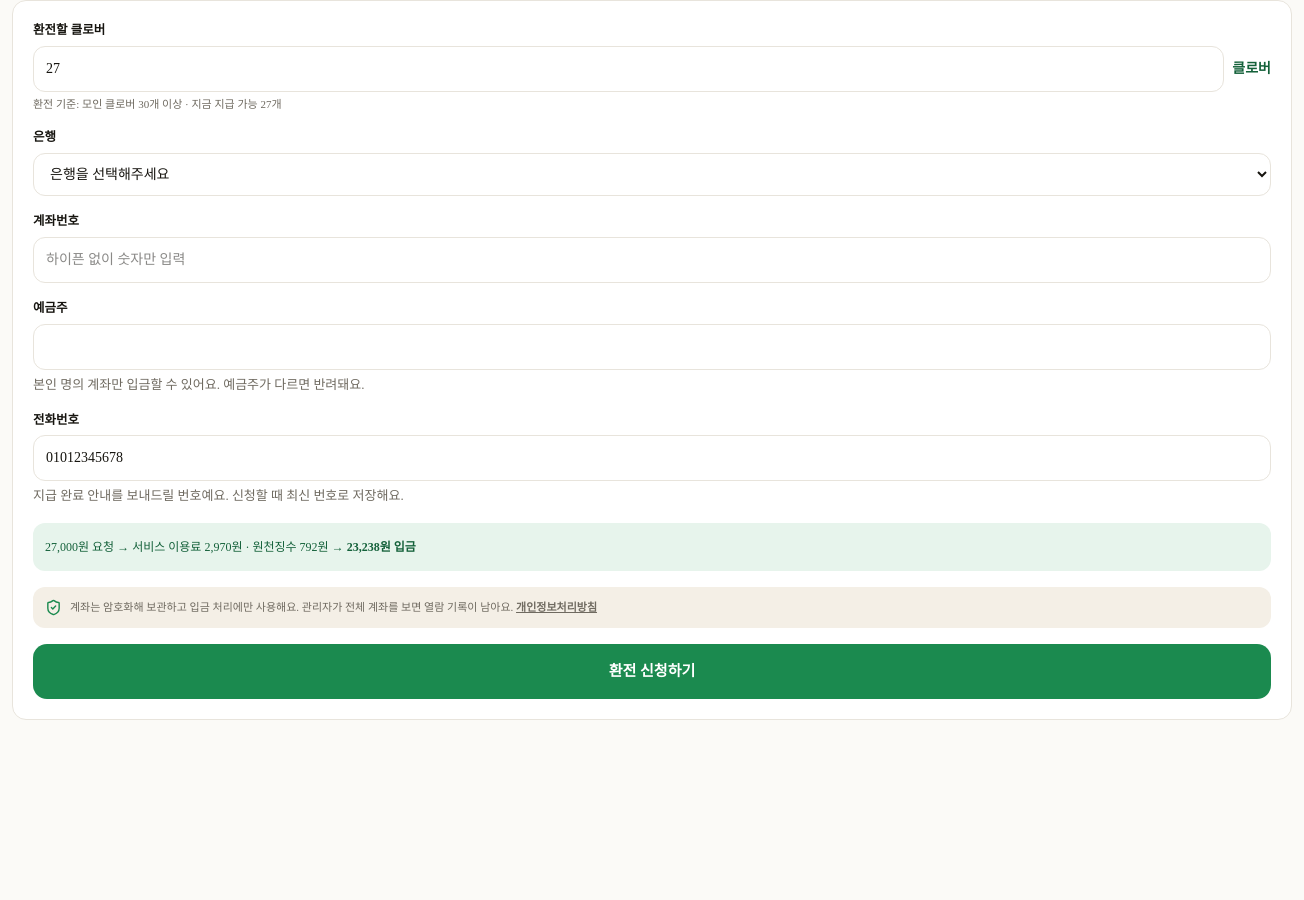
CashoutRequestForm › QA-LOCAL-03 총 30개(웰컴 3 포함)면 환전 가능액 27개로 신청할 수 있다
Check: the number field labelled "환전할 클로버" holds "27", box [33,46,1224,92]
Check: the form with test id "cashout-request-form" shows "환전 기준: 모인 클로버 30개 이상 · 지금 지급 가능 27개", box [33,98,282,110]
Select "KB국민은행" in the dropdown labelled "은행" at coordinates (652, 174), box [33,153,1271,196]
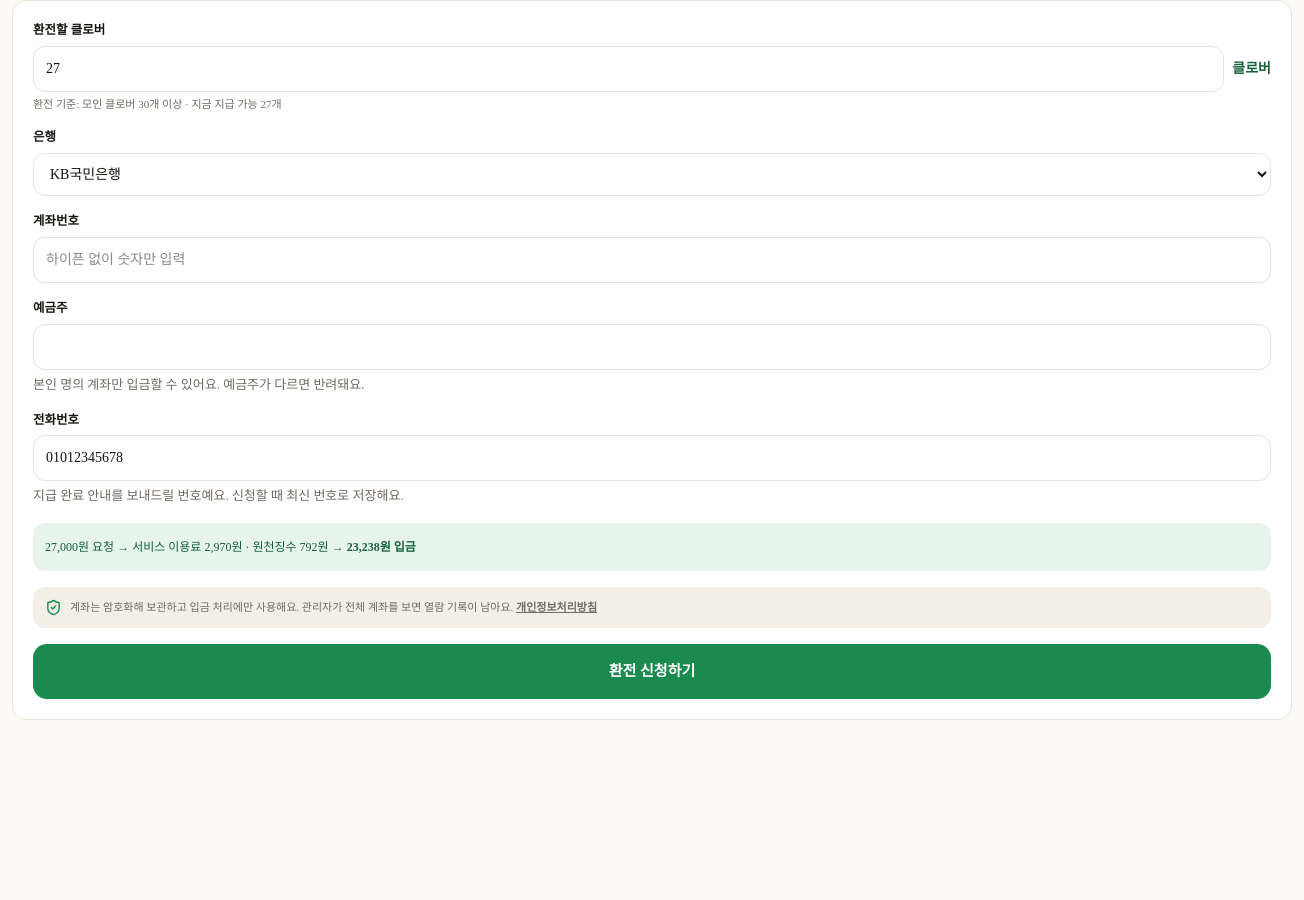
Type "123-456-789012" into the field labelled "계좌번호" at coordinates (652, 260), box [33,237,1271,283]
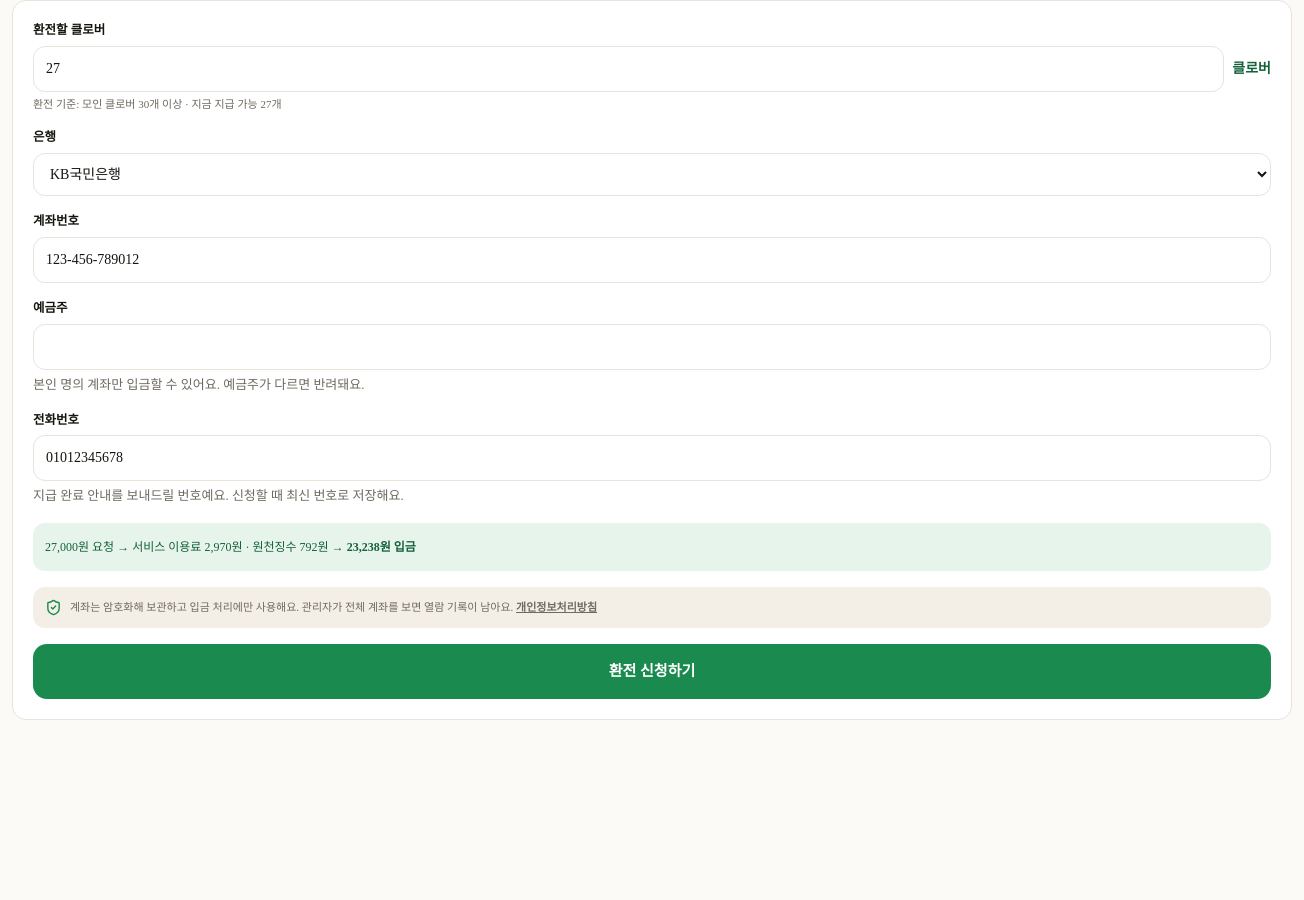
Type "홍길동" into the field labelled "예금주" at coordinates (652, 346), box [33,324,1271,370]
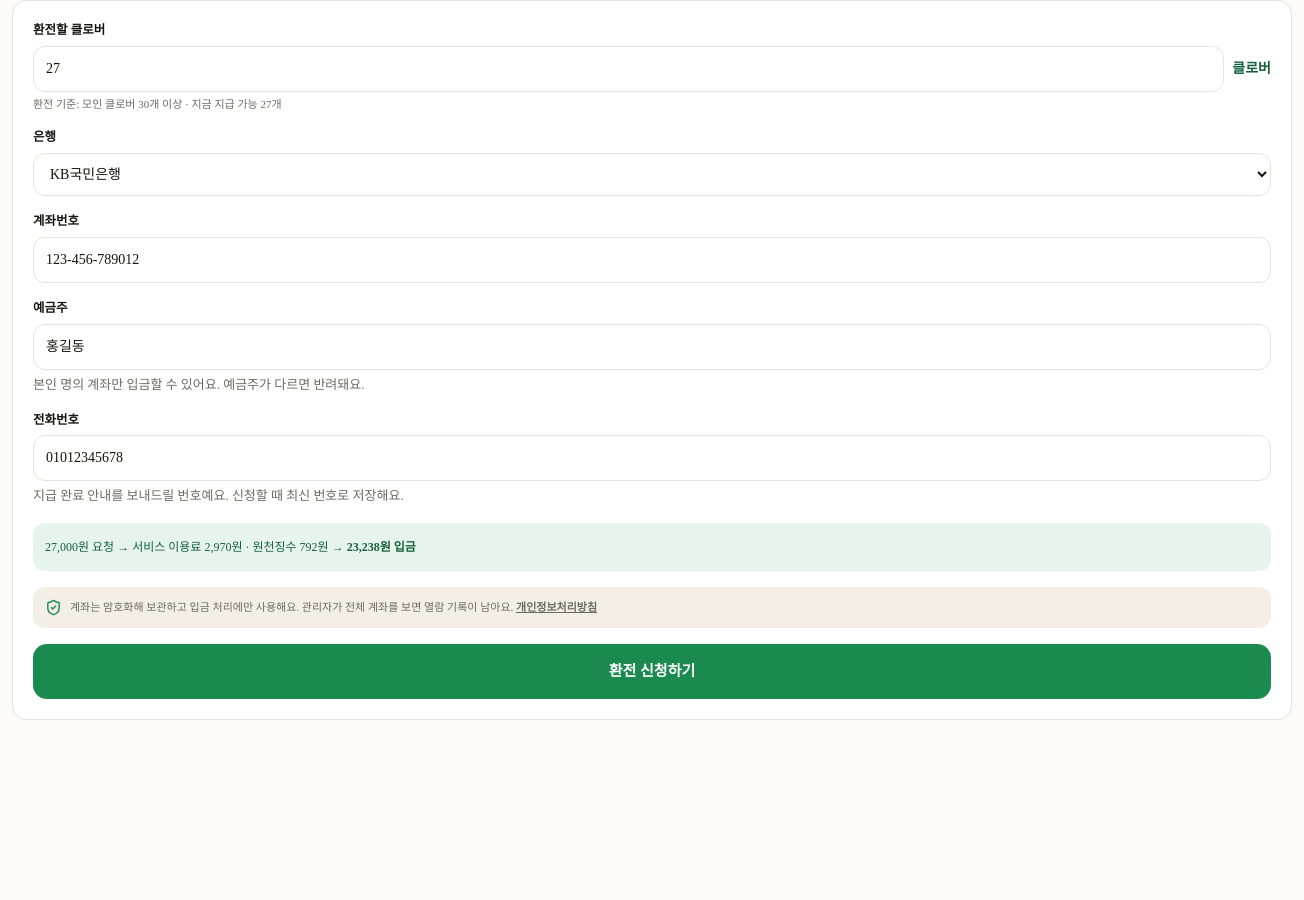
Click the button with test id "cashout-confirm-button" at coordinates (652, 672), box [33,644,1271,699]
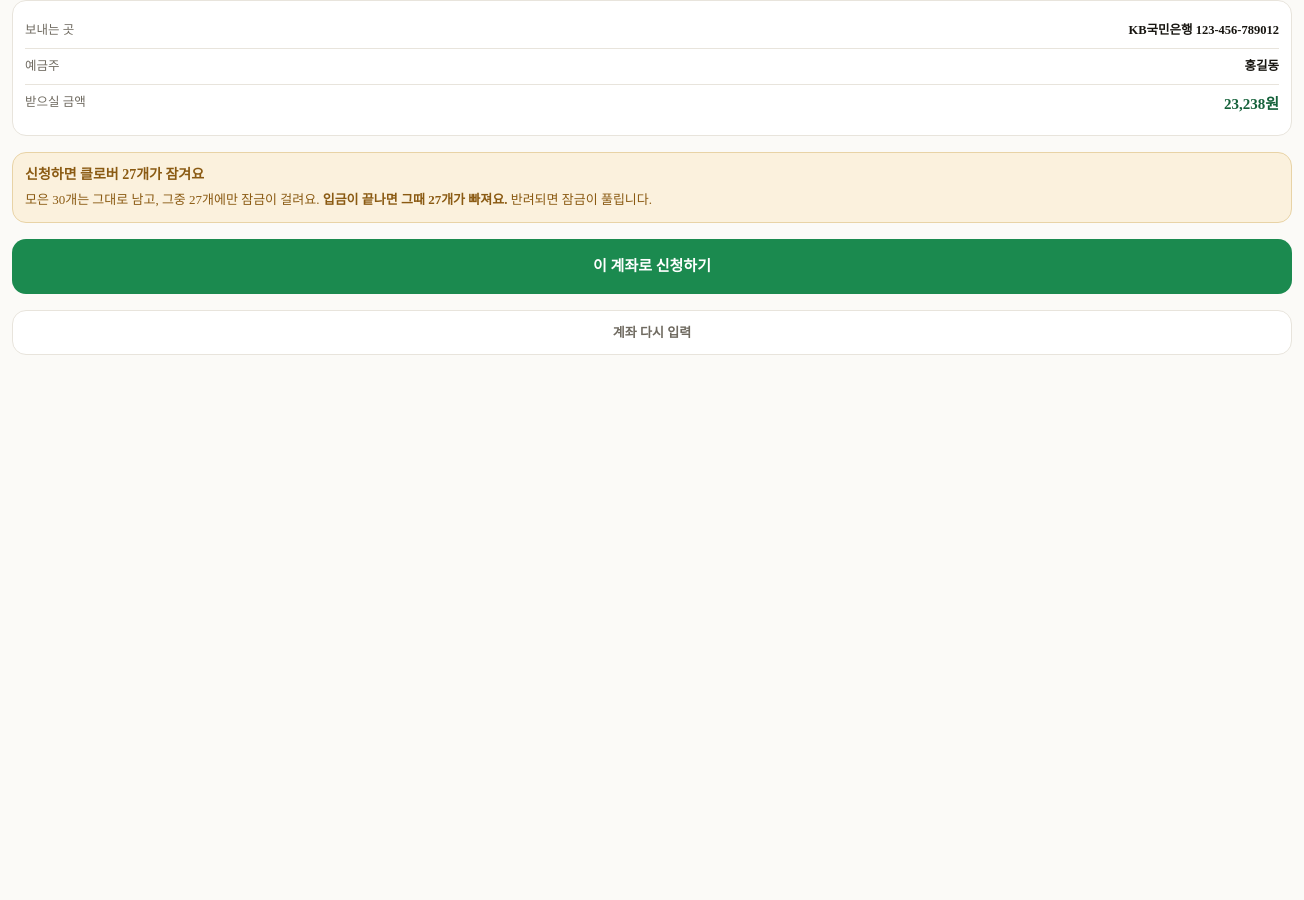
Check: the element with test id "cashout-confirm-step" is shown, box [12,0,1292,355]
